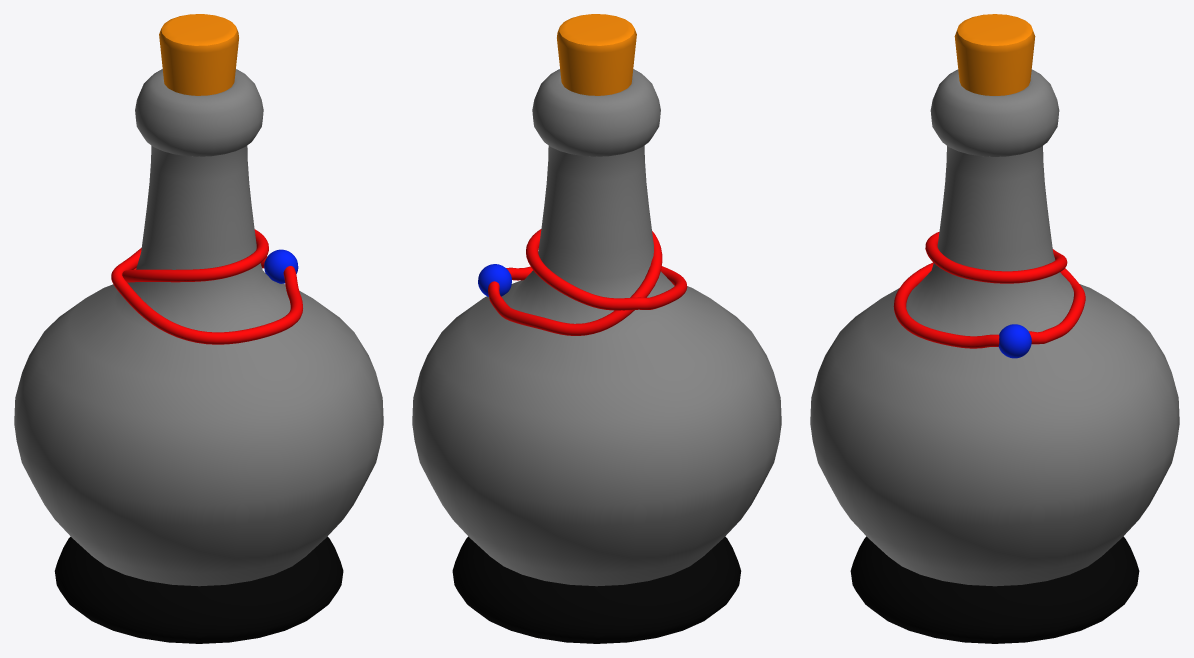
The picture shows the model from 3 angles, left to right: view 1: azimuth 30°, elevation 25°; view 2: azimuth 150°, elevation 25°; view 3: azimuth 270°, elevation 25°; orthographic projection.
Visible parts, largest first — view 1: polySurface5, polySurface4, pCylinder2, pCylinder3, pSphere1; view 2: polySurface5, polySurface4, pCylinder2, pCylinder3, pSphere1; view 3: polySurface5, polySurface4, pCylinder3, pCylinder2, pSphere1.
Boxes of the visible parts, x1,y1,x2,y2 form: polySurface5: (14,69,383,586); polySurface4: (54,536,343,643); pCylinder2: (111,229,302,344); pCylinder3: (159,14,238,95); pSphere1: (264,249,298,283); polySurface5: (412,69,781,586); polySurface4: (452,536,741,643); pCylinder2: (488,229,687,335); pCylinder3: (557,14,636,95); pSphere1: (478,264,511,296); polySurface5: (810,69,1179,586); polySurface4: (850,536,1139,643); pCylinder3: (954,14,1035,95); pCylinder2: (893,232,1085,348); pSphere1: (998,324,1031,358).
Size of the model in its own units: 4.68 by 7.84 by 4.68.
